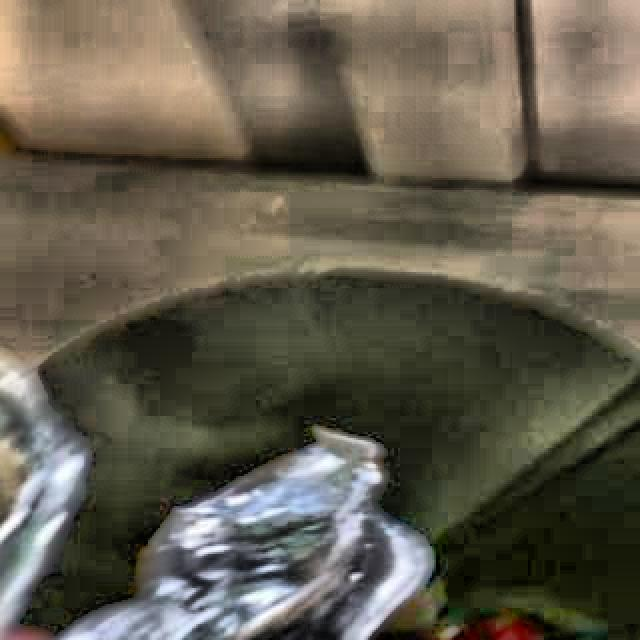metal: (57, 433, 425, 640)
